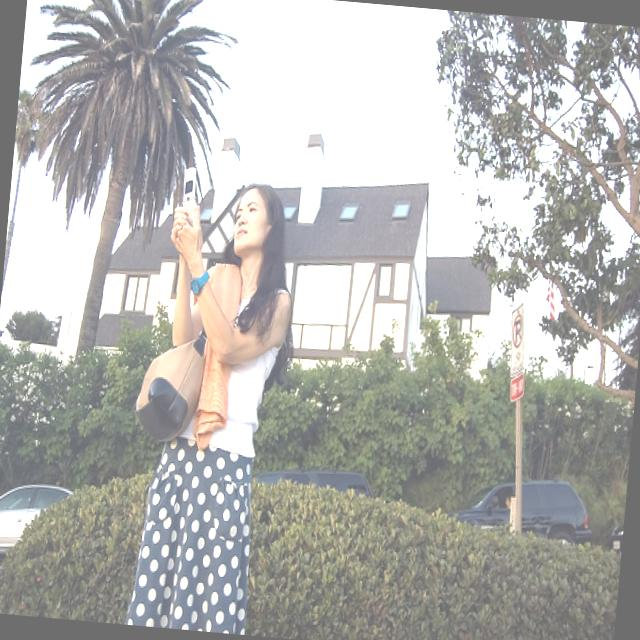Vehicle: (454, 476, 592, 536), (0, 478, 73, 573), (255, 465, 376, 497)
